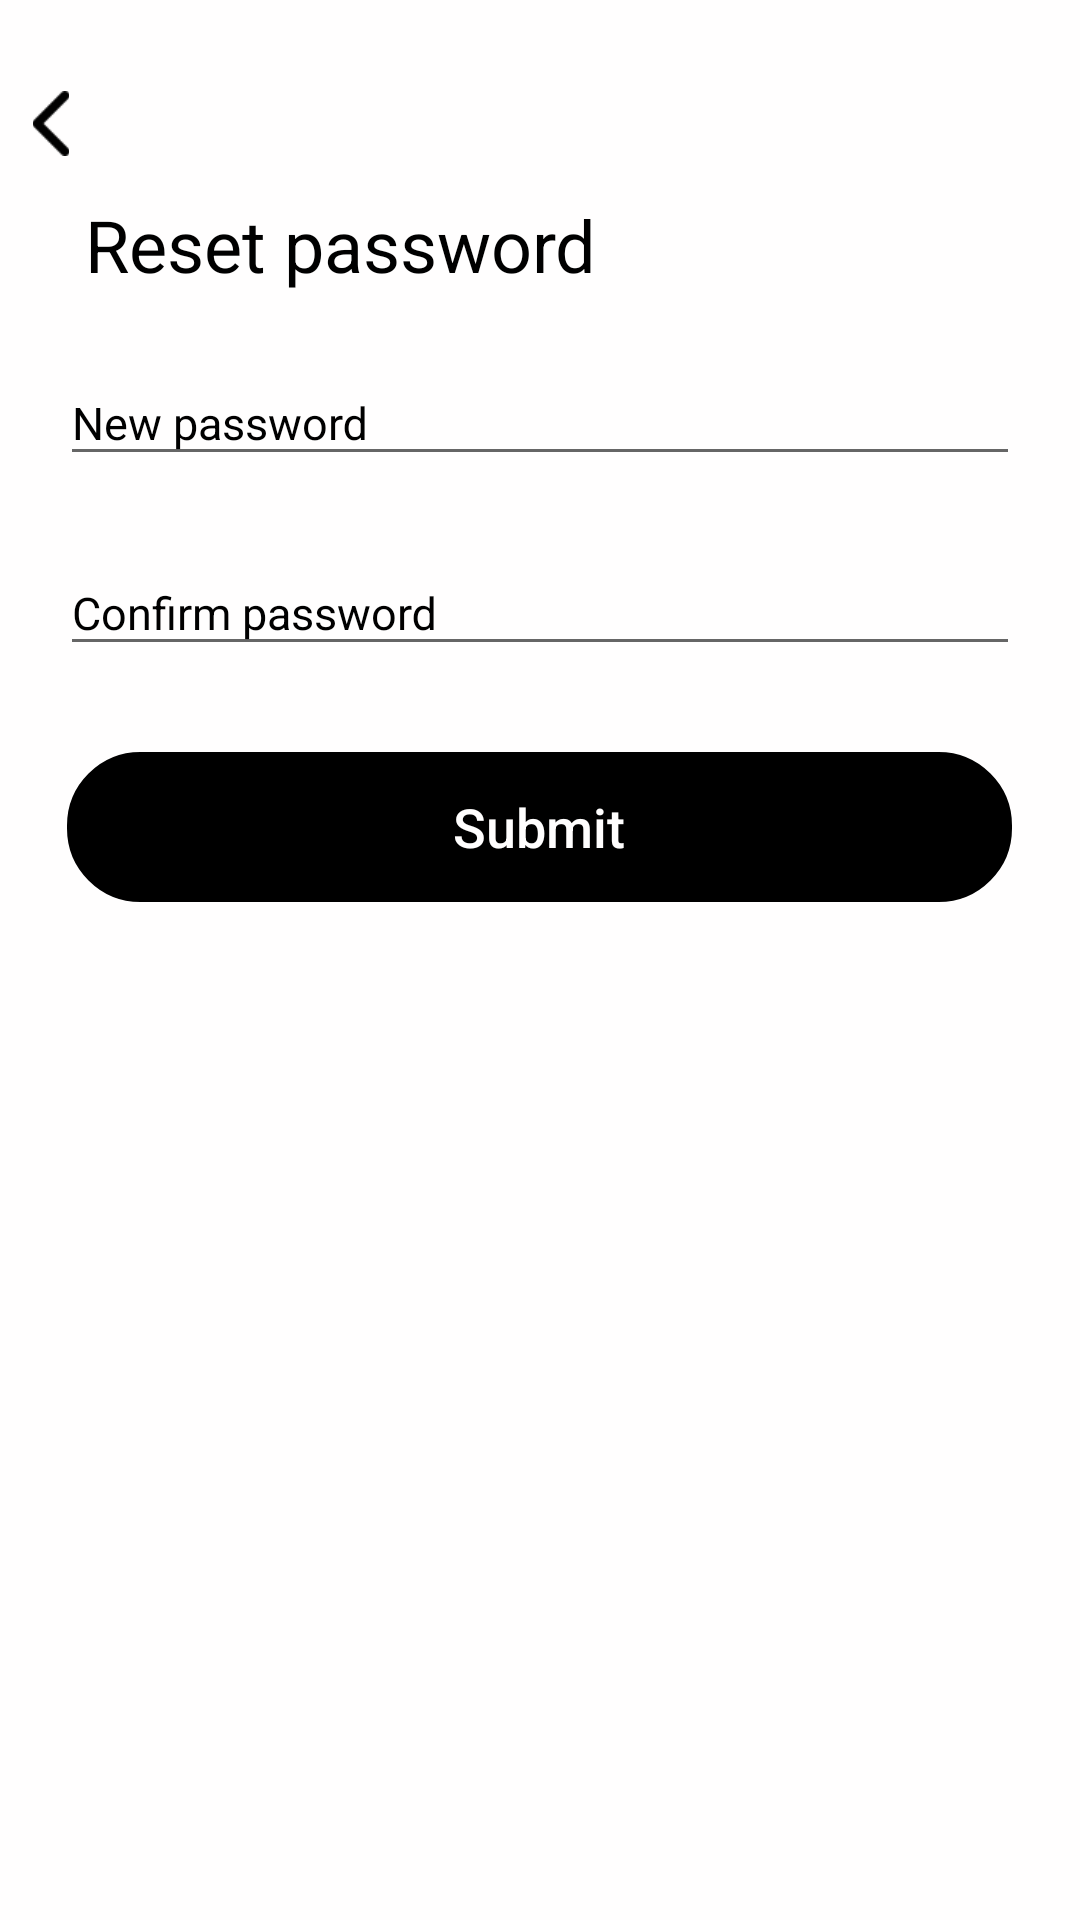

Screen size 1080px×1920px. Icon name, then its center in pixels as (x,y):
back: (51,123)
